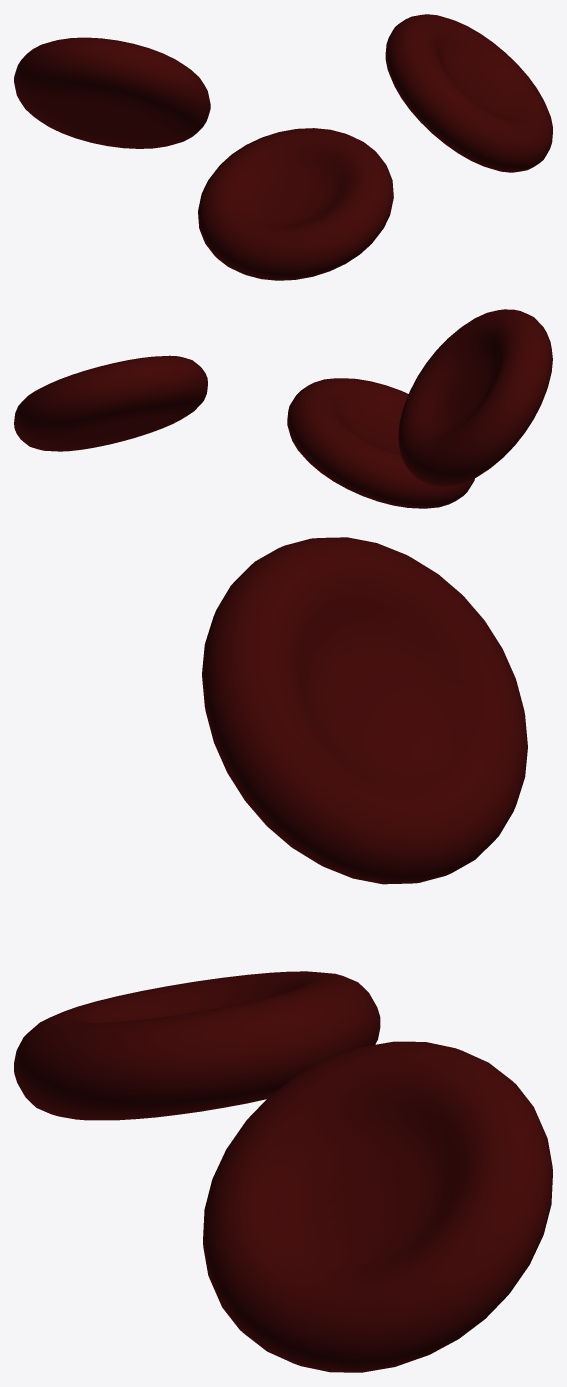
Rendered from Blood Cells.obj.
3 views of the same model, one above another, from view 1: azimuth 30°, elevation 25°; view 2: azimuth 150°, elevation 25°; view 3: azimuth 270°, elevation 25° (orthographic). The views are drawn at different scales.
Visible parts, largest first — view 1: Torus.002; view 2: Torus.002; view 3: Torus.002.
Boxes of the visible parts, x1,y1,x2,y2 form: Torus.002: (14, 14, 552, 280); Torus.002: (14, 309, 552, 508); Torus.002: (14, 537, 552, 1372).
Size of the model in its own units: 1.36 by 0.5846 by 0.6636.
